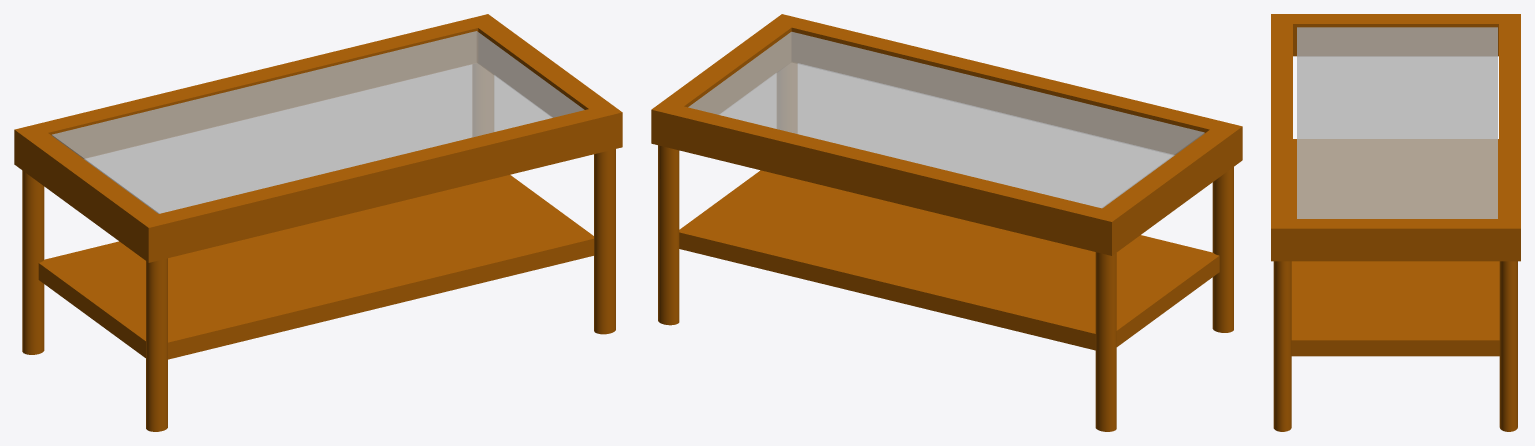
File: coffeetable_notexture.fbx
3 renders of one model, left to right at view 1: azimuth 30°, elevation 25°; view 2: azimuth 150°, elevation 25°; view 3: azimuth 270°, elevation 25°, orthographic. The views are drawn at different scales.
Parts seen in each view (by area): view 1: polySurface2, pCube2; view 2: polySurface2, pCube2; view 3: polySurface2, pCube2.
Part boxes in pixels (box(x1,y1,x2,y2)): polySurface2: box(14, 14, 622, 431); pCube2: box(51, 31, 584, 213); polySurface2: box(651, 14, 1242, 431); pCube2: box(688, 31, 1204, 208); polySurface2: box(1271, 14, 1520, 431); pCube2: box(1297, 27, 1497, 218).
Bounding box in the file's own units: 8.19 × 3.62 × 4.02.
